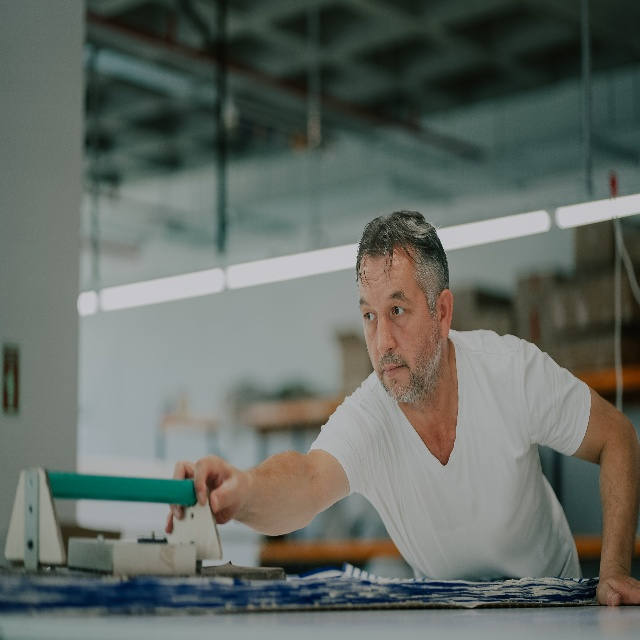Sin_guantes: (165, 452, 247, 536), (595, 568, 640, 608)
